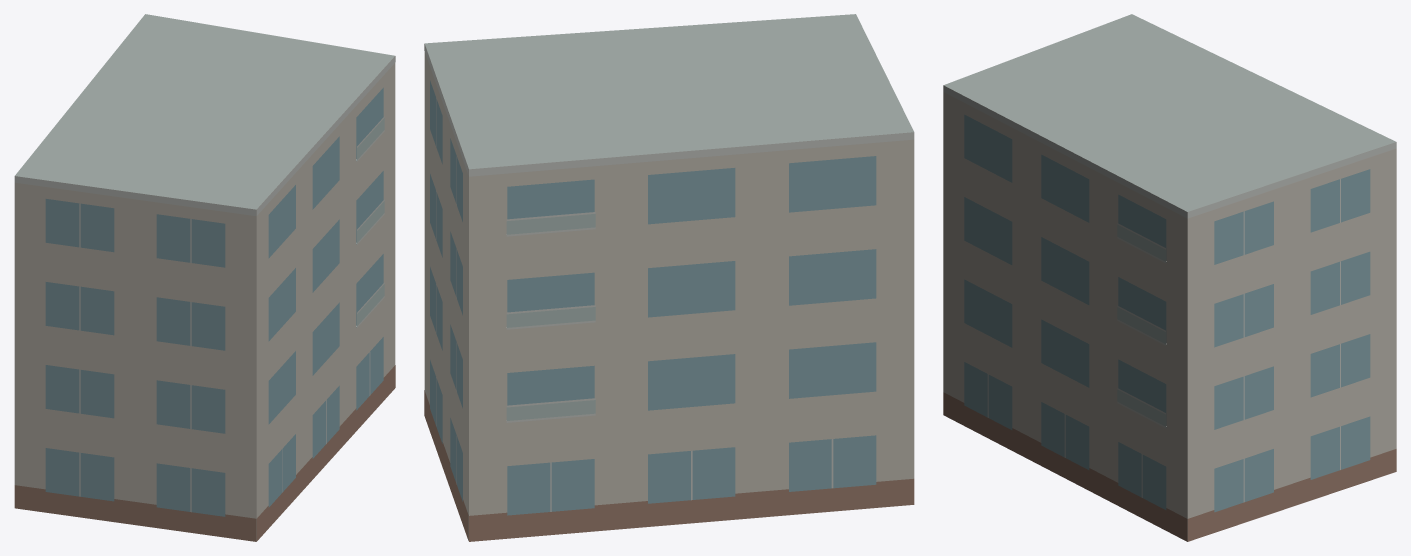
The model's file is survey-upis-32648295.glb.
3 renders of one model, left to right at view 1: azimuth 30°, elevation 25°; view 2: azimuth 150°, elevation 25°; view 3: azimuth 270°, elevation 25°, orthographic. The views are drawn at different scales.
Parts seen in each view (by area): view 1: survey-upis-32648295.tmp; view 2: survey-upis-32648295.tmp; view 3: survey-upis-32648295.tmp.
Boxes of the visible parts, bbox=[...] form: survey-upis-32648295.tmp: bbox=[14, 14, 395, 541]; survey-upis-32648295.tmp: bbox=[424, 14, 914, 541]; survey-upis-32648295.tmp: bbox=[943, 14, 1396, 541].
Bounding box in the file's own units: 15.78 × 12.25 × 15.26.
